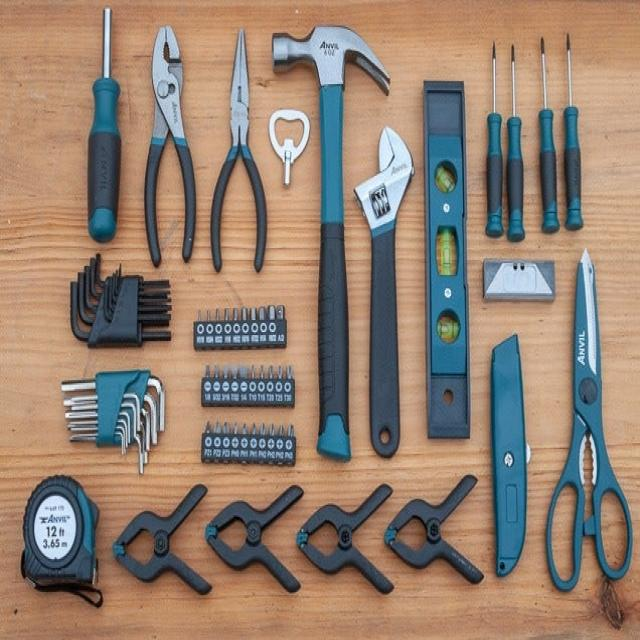Screwdriver: (88, 7, 121, 242), (539, 37, 560, 232), (564, 34, 584, 230), (485, 41, 501, 237), (508, 45, 524, 240)
